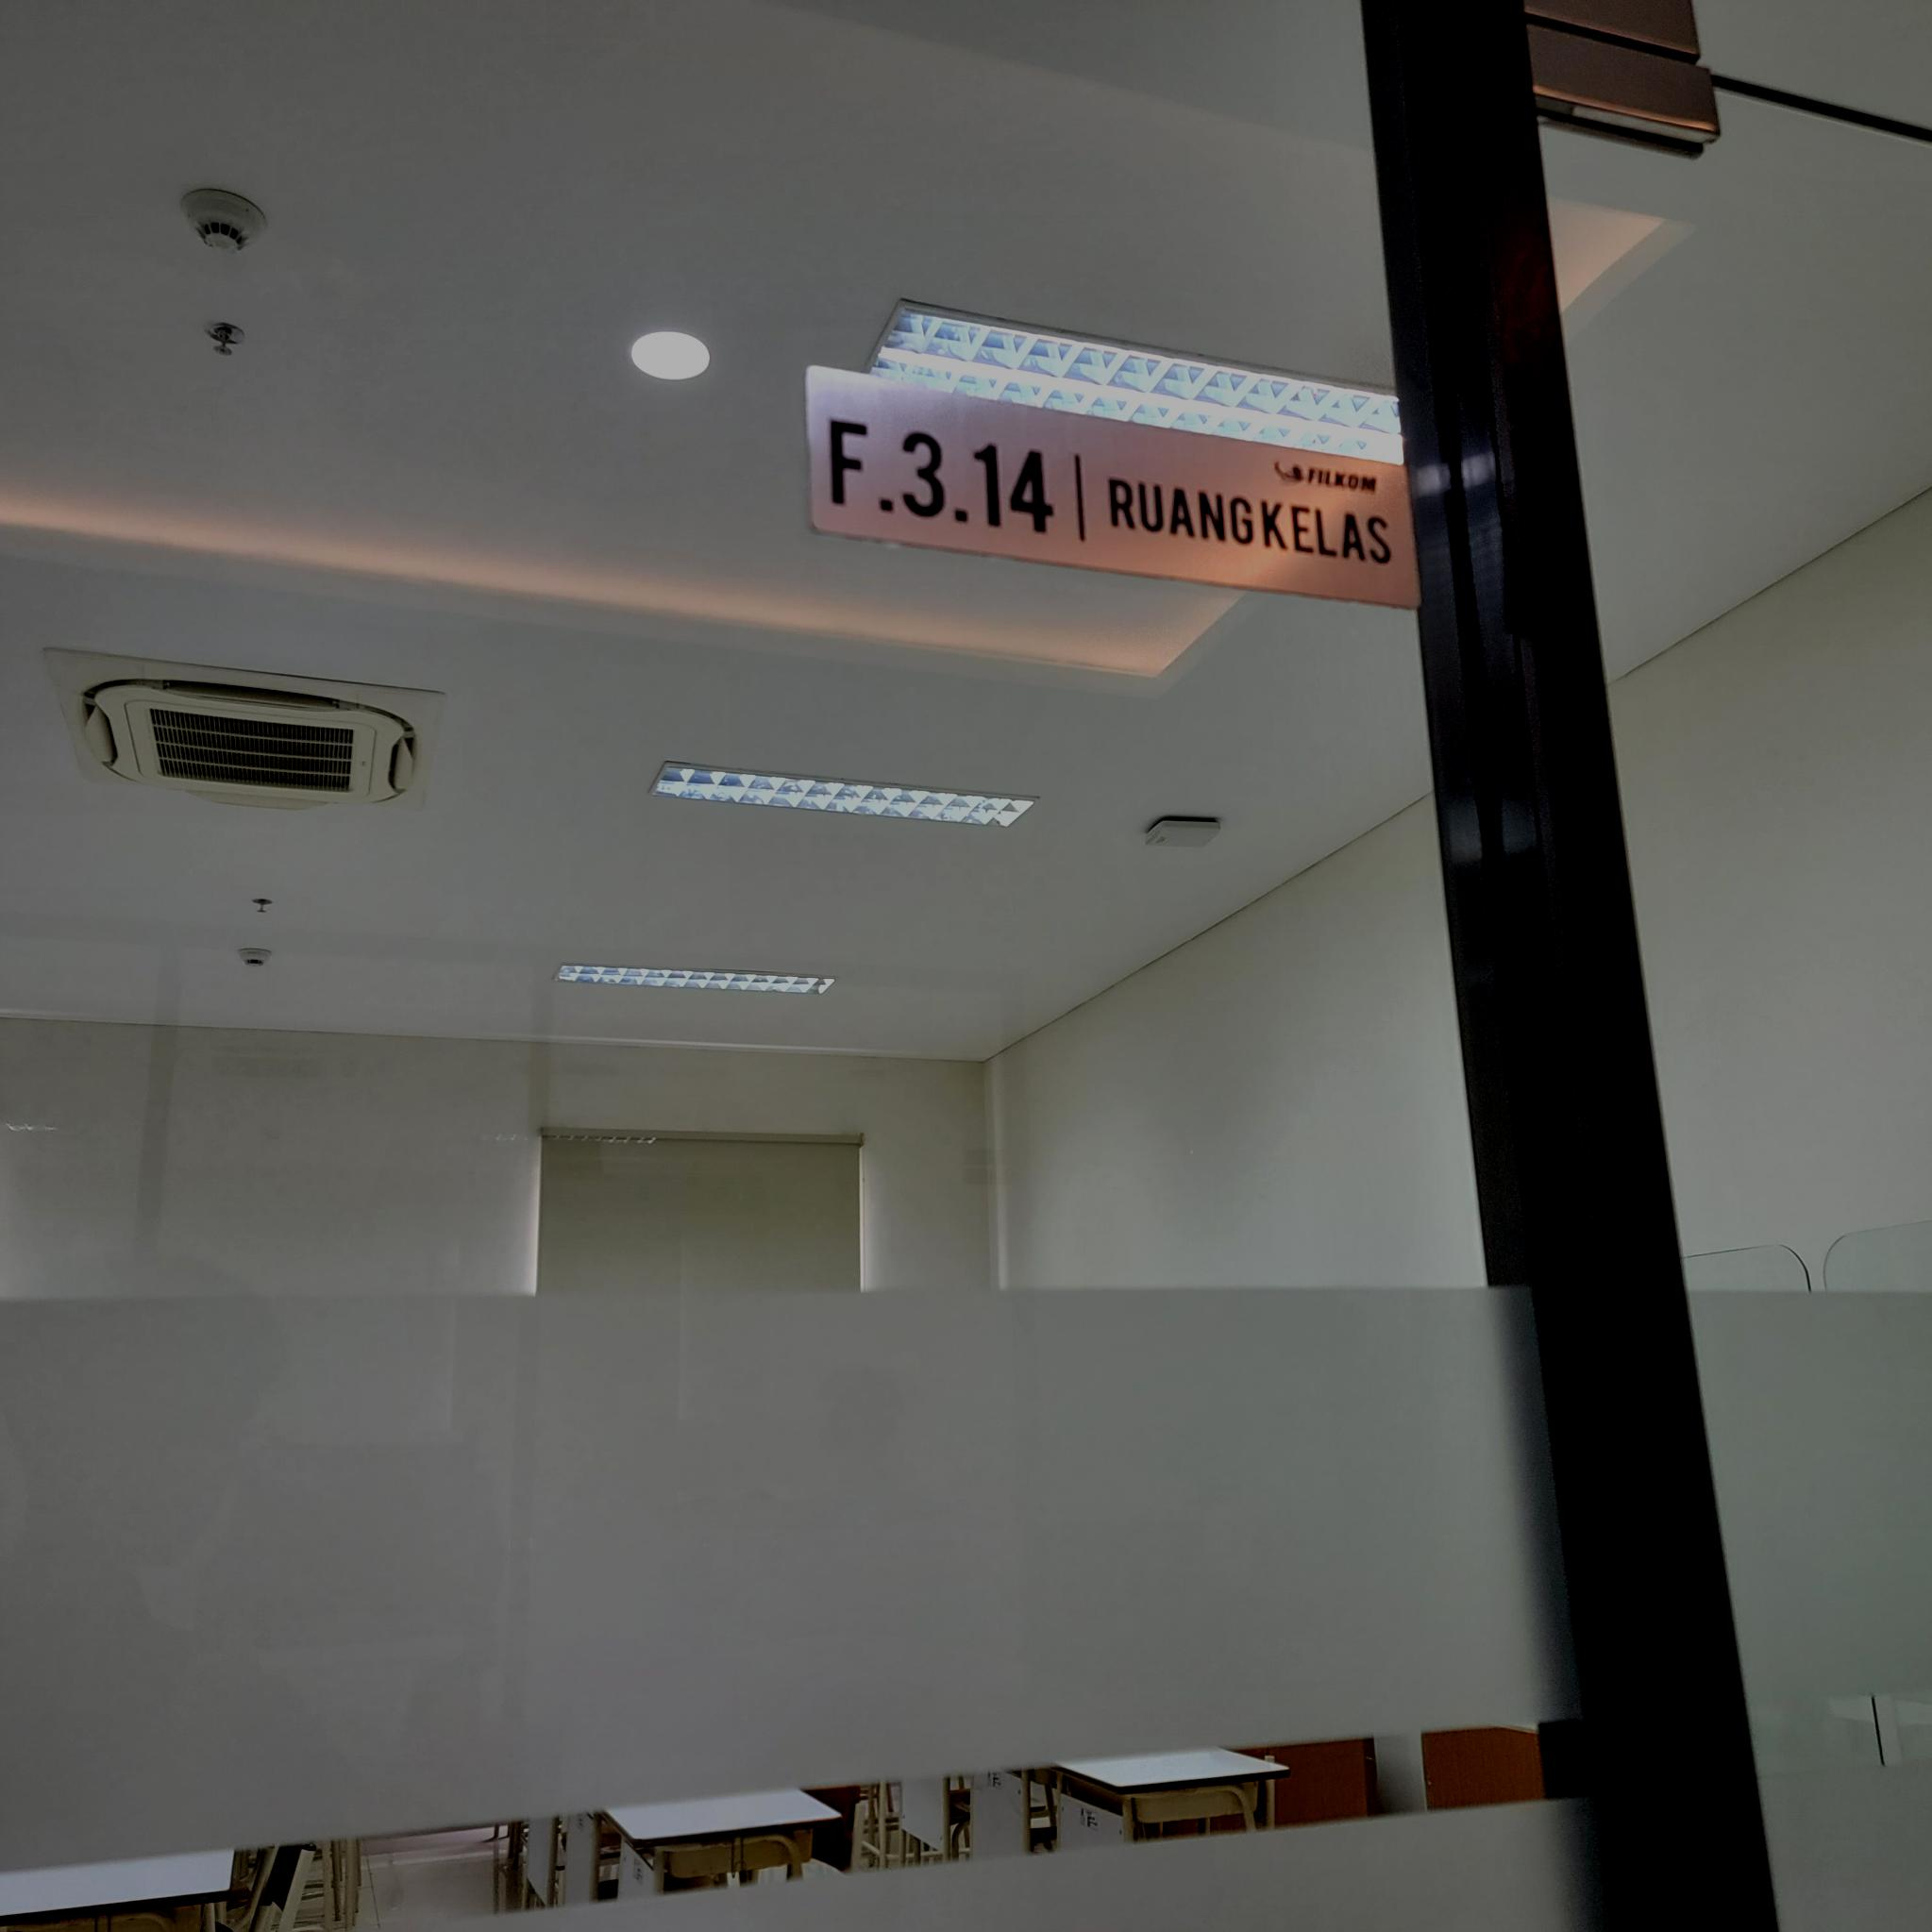plate: (805, 361, 1424, 610)
